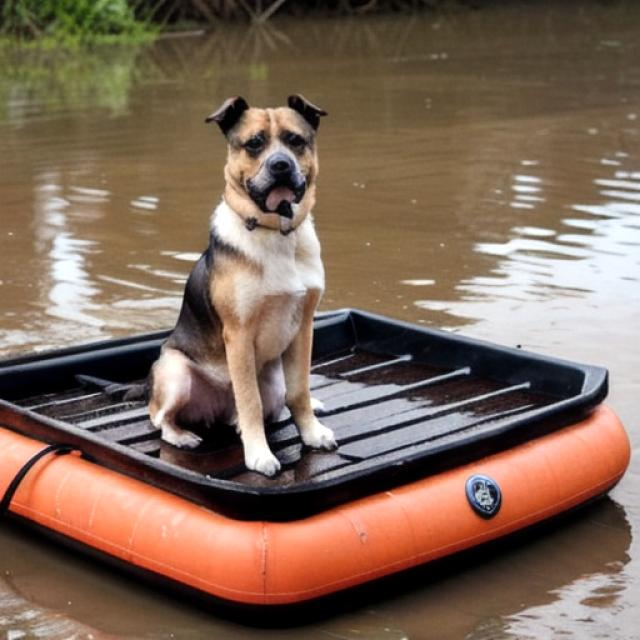dog: (140, 90, 367, 483)
